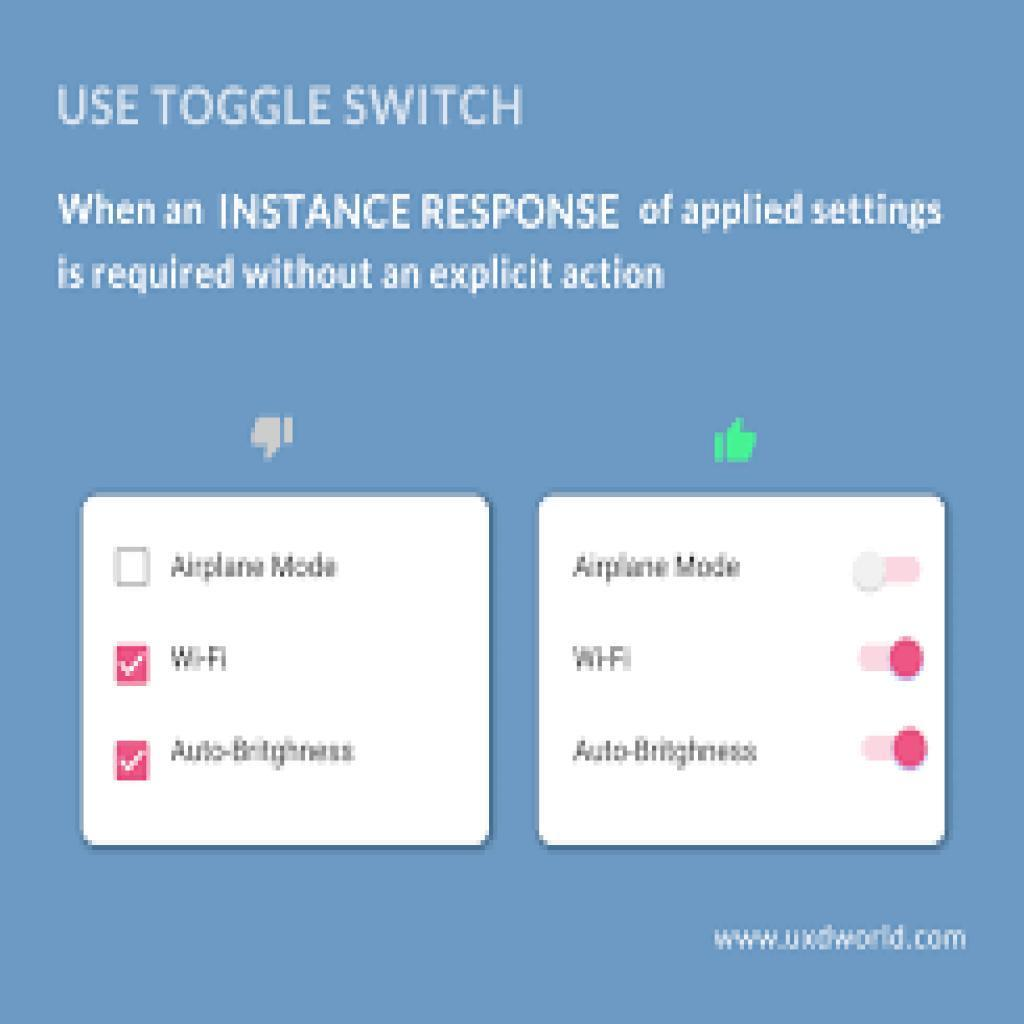checkbox: (114, 643, 155, 688), (114, 546, 153, 589), (114, 740, 152, 783)
label: (567, 730, 767, 773), (170, 735, 357, 773), (170, 550, 342, 589), (571, 550, 743, 583), (567, 638, 637, 675), (167, 642, 236, 679)
switch: (851, 548, 921, 598), (860, 727, 929, 772), (859, 638, 925, 684)
